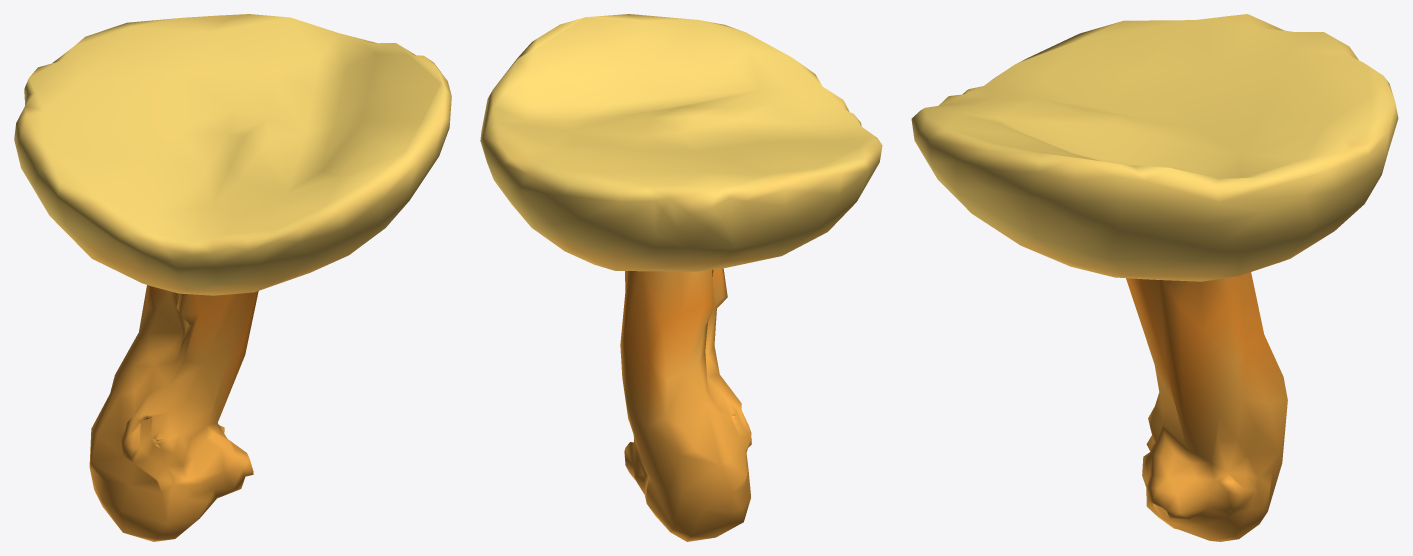
The model's file is Mushroom1.fbx.
3 views of the same model, side by side, from view 1: azimuth 30°, elevation 25°; view 2: azimuth 150°, elevation 25°; view 3: azimuth 270°, elevation 25° (orthographic). The views are drawn at different scales.
Parts seen in each view (by area): view 1: mushroom_01; view 2: mushroom_01; view 3: mushroom_01.
Part boxes in pixels (x1,y1,x2,y2): mushroom_01: (14, 14, 451, 541); mushroom_01: (480, 14, 882, 541); mushroom_01: (911, 14, 1398, 541).
Size of the model in its own units: 84.44 by 98.3 by 88.72.
